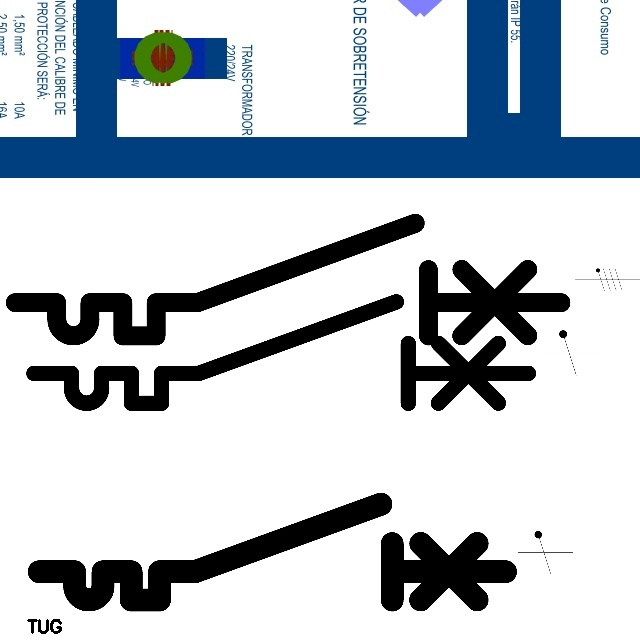interruptor_termomagnetico: (1, 209, 575, 350), (21, 289, 541, 416), (27, 492, 517, 612)
